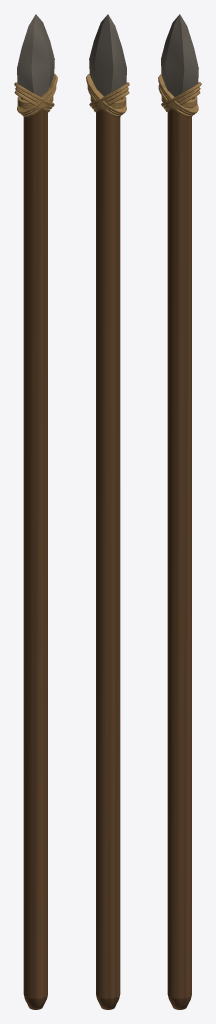
Rendered from tool_spear.glb.
3 views of the same model, side by side, from view 1: azimuth 30°, elevation 25°; view 2: azimuth 150°, elevation 25°; view 3: azimuth 330°, elevation 25° (orthographic).
Visible parts, largest first — view 1: tool_spear; view 2: tool_spear; view 3: tool_spear.
Boxes of the visible parts, x1,y1,x2,y2 form: tool_spear: (14, 14, 57, 1009); tool_spear: (86, 14, 129, 1009); tool_spear: (158, 14, 201, 1009).
Bounding box in the file's own units: 0.0755 × 1.75 × 0.0477.
